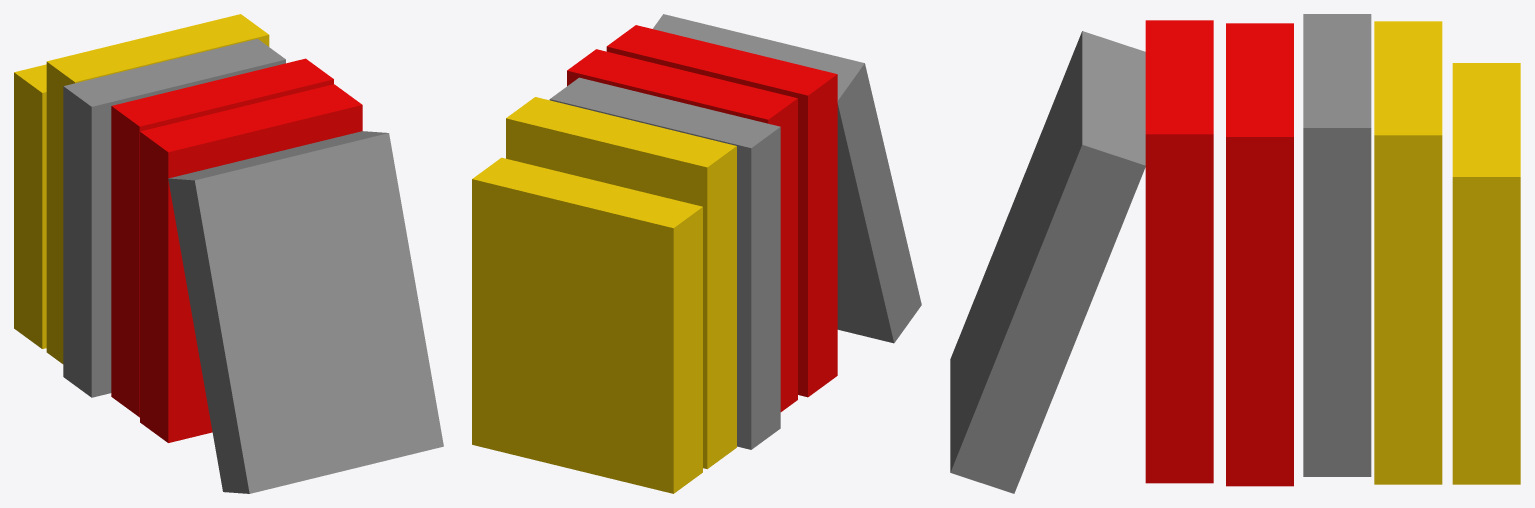
Rendered from Bookpile01_anime.FBX.
3 views of the same model, side by side, from view 1: azimuth 30°, elevation 25°; view 2: azimuth 150°, elevation 25°; view 3: azimuth 270°, elevation 25° (orthographic). The views are drawn at different scales.
Visible parts, largest first — view 1: Box034; view 2: Box034; view 3: Box034.
Part boxes in pixels (x1,y1,x2,y2): Box034: [14, 14, 443, 493]; Box034: [472, 14, 921, 493]; Box034: [950, 14, 1520, 493].
Bounding box in the file's own units: 21.07 × 28.73 × 41.26.
